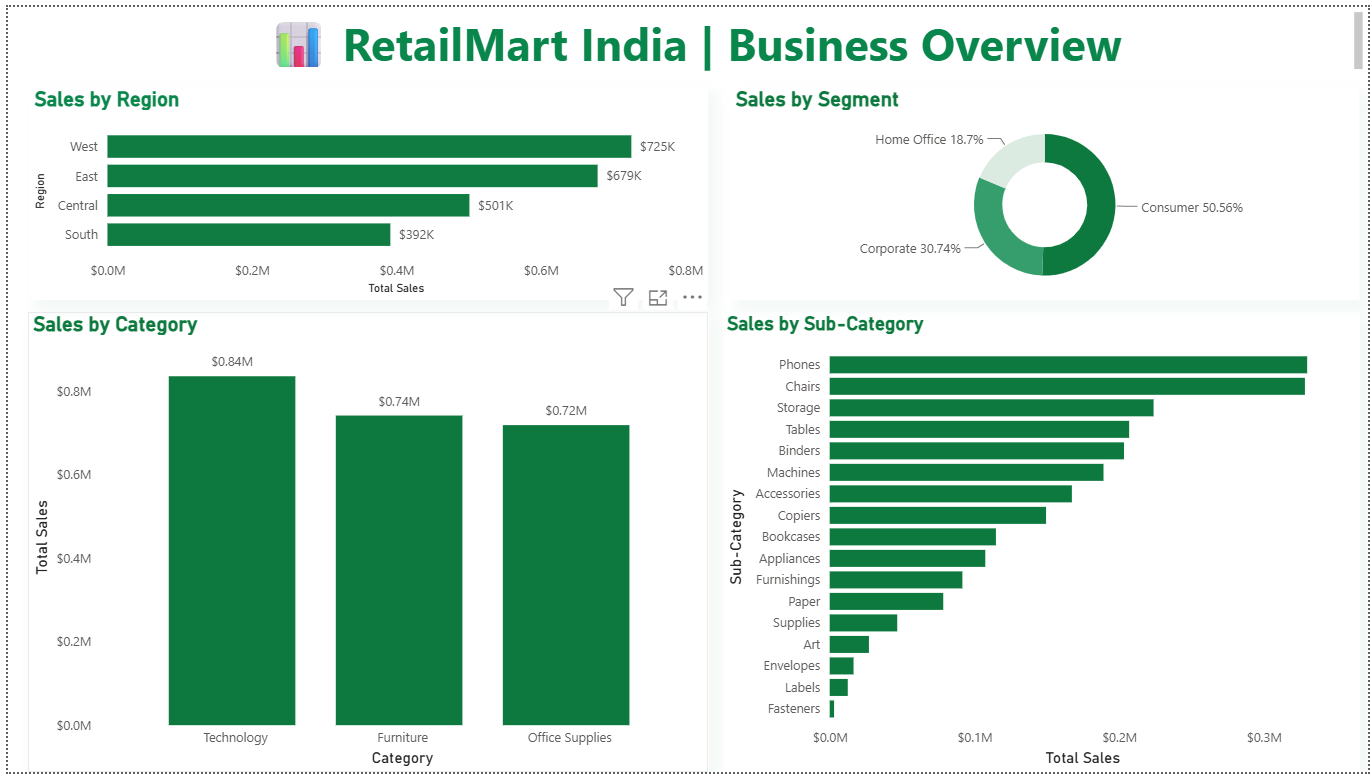

This screenshot's page, from the dashboard's own definition file:
{"tool":"powerbi","page":{"name":"Business Overview","canvas":[1280,720],"ordinal":1},"visuals":[{"type":"textbox","box":[9.8,0,1270.5,64.8],"z":0},{"type":"clusteredBarChart","title":"Sales by Region","fields":{"Y":["Measures (2).Total Sales"],"Category":["orders.Region"]},"box":[19.6,75.8,639.5,200.5],"z":1000},{"type":"donutChart","title":"Sales by Segment","fields":{"Y":["Measures (2).Total Sales"],"Category":["orders.Segment"]},"box":[679.9,75.8,591.9,200.5],"z":2000},{"type":"clusteredColumnChart","title":"Sales by Category","fields":{"Category":["orders.Category"],"Y":["Measures (2).Total Sales"]},"box":[18.3,287.4,640.8,432.9],"z":3000},{"type":"clusteredBarChart","title":"Sales by Sub-Category","fields":{"Category":["orders.Sub-Category"],"Y":["Measures (2).Total Sales"]},"box":[671.3,287.4,600.4,432.9],"z":4000}]}

Visuals, with their boxes in screenshot pixels (x1, y1, x2, y2), scaled from the page's 1280x720 canvas onto the 1372x780 screenshot:
textbox: [11,0,1371,70]
"Sales by Region" clusteredBarChart: [21,82,706,299]
"Sales by Segment" donutChart: [729,82,1363,299]
"Sales by Category" clusteredColumnChart: [20,311,706,779]
"Sales by Sub-Category" clusteredBarChart: [720,311,1363,779]
